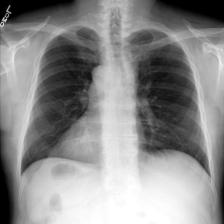normal: (15, 20, 214, 193)
